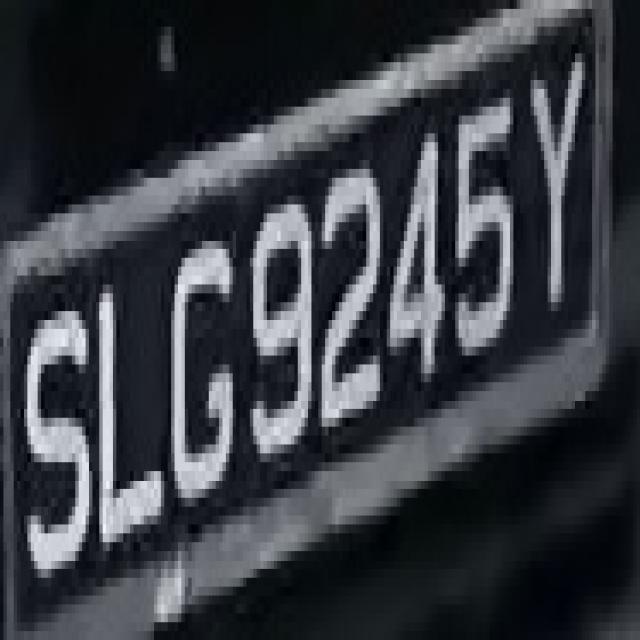2: (315, 125, 387, 462)
4: (373, 116, 459, 400)
5: (442, 62, 520, 391)
9: (240, 178, 318, 489)
G: (165, 222, 246, 534)
L: (96, 240, 164, 542)
S: (14, 276, 99, 622)
Y: (510, 54, 592, 302)
